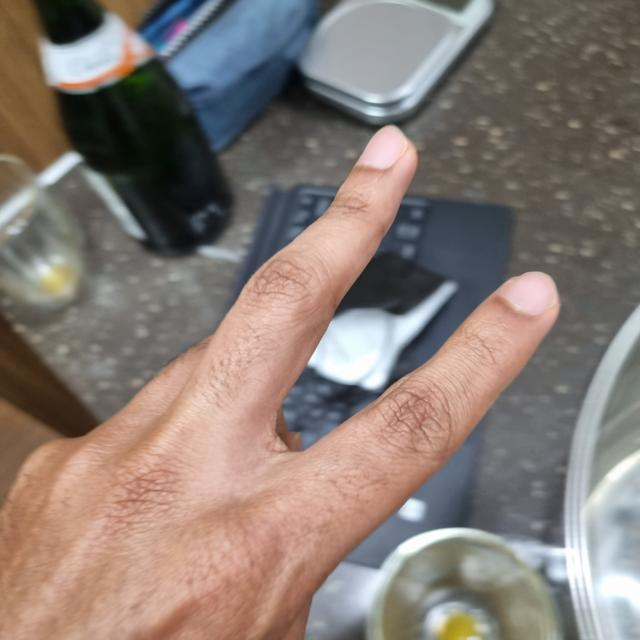Scissors: (0, 128, 561, 639)
